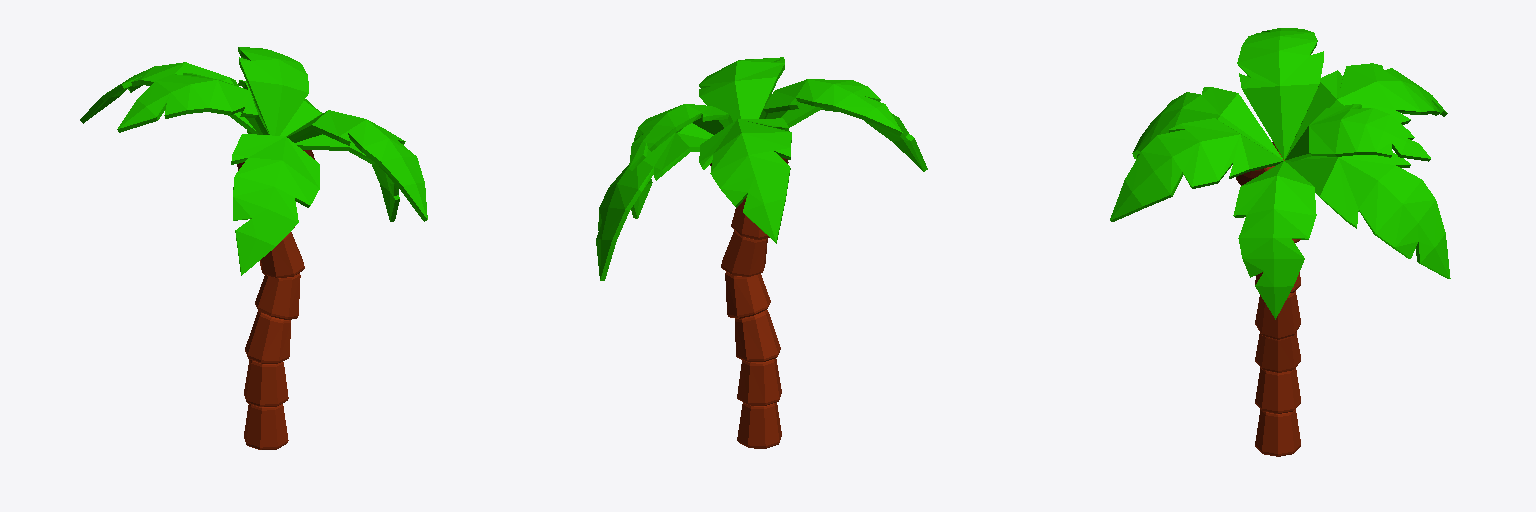
File: PalmTree.obj
3 renders of one model, left to right at view 1: azimuth 30°, elevation 25°; view 2: azimuth 150°, elevation 25°; view 3: azimuth 270°, elevation 25°, orthographic.
Parts seen in each view (by area): view 1: PalmTree; view 2: PalmTree; view 3: PalmTree.
Boxes of the visible parts, box(x1,y1,x2,y2) form: PalmTree: box(80, 47, 427, 449); PalmTree: box(596, 57, 927, 448); PalmTree: box(1110, 28, 1450, 456).
Bounding box in the file's own units: 5.39 × 7.08 × 5.83.